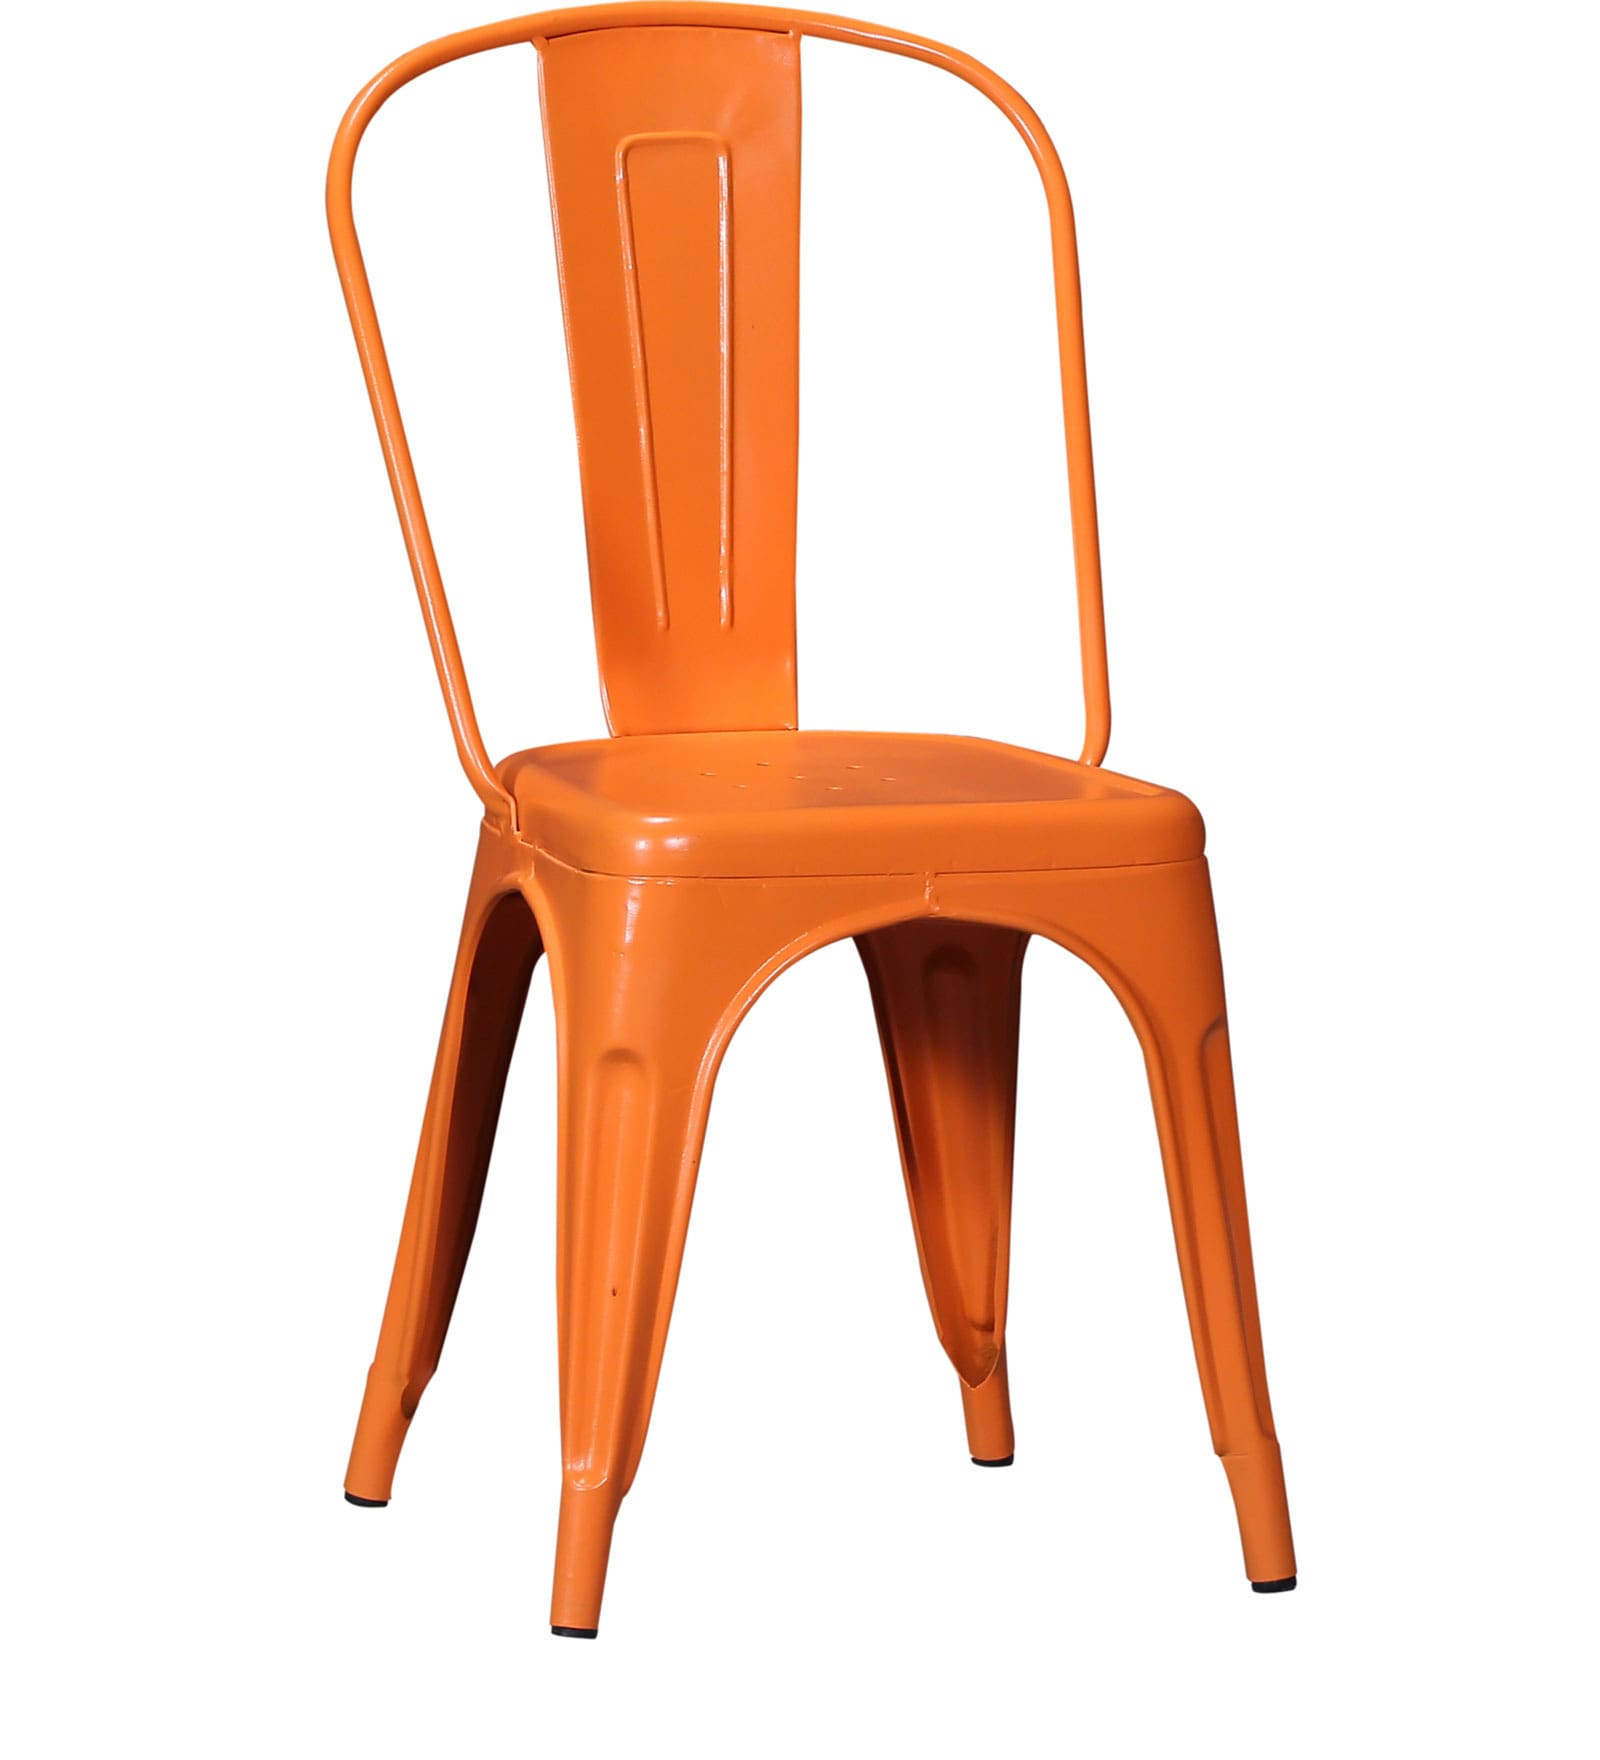Ekati Metal Chair in Orange Color with Eyelet by Bohemiana: (285, 8, 1376, 1699)
